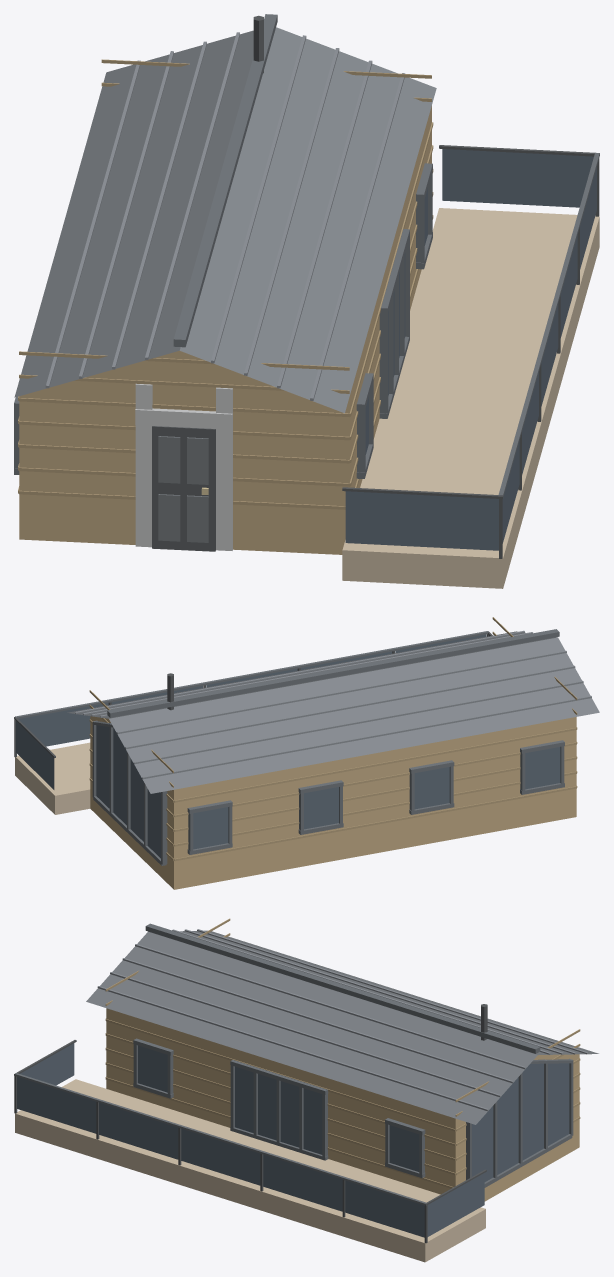
The picture shows the model from 3 angles, top to bottom: view 1: azimuth 30°, elevation 25°; view 2: azimuth 150°, elevation 25°; view 3: azimuth 270°, elevation 25°; orthographic projection. The views are drawn at different scales.
Visible parts, largest first — view 1: slate, larch, door_wood, slate_dk, slate_lt, door_wood_p, window_glass_006, window_glass_007, stone_band, door_dark_p, door_dark, pipe (+5 smaller); view 2: slate, door_wood, slate_dk, slate_lt, door_wood_p, window_glass_014, larch, window_glass_005, window_glass_018, window_glass_017, window_glass_015, window_glass_016 (+2 smaller); view 3: slate, door_wood, larch, slate_dk, slate_lt, window_glass_014, door_wood_p, window_glass_003, window_glass_004, window_glass_005, window_glass_001, window_glass_002 (+9 smaller).
Part boxes in pixels (x1,y1,x2,y2): slate: [14, 27, 436, 413]; larch: [342, 208, 599, 588]; door_wood: [19, 106, 431, 554]; slate_dk: [14, 14, 599, 497]; slate_lt: [45, 32, 405, 400]; door_wood_p: [18, 59, 433, 509]; window_glass_006: [345, 491, 498, 550]; window_glass_007: [442, 149, 593, 207]; stone_band: [135, 383, 232, 550]; door_dark_p: [158, 436, 208, 542]; door_dark: [152, 426, 215, 551]; pipe: [253, 15, 599, 558]; slate: [67, 631, 599, 793]; door_wood: [90, 716, 576, 889]; slate_dk: [15, 629, 564, 865]; slate_lt: [75, 630, 591, 779]; door_wood_p: [89, 617, 577, 861]; window_glass_014: [96, 725, 160, 858]; larch: [15, 742, 90, 814]; window_glass_005: [18, 703, 108, 746]; window_glass_018: [525, 747, 560, 789]; window_glass_017: [414, 767, 449, 809]; window_glass_015: [193, 807, 228, 849]; window_glass_016: [304, 787, 338, 829]; slate: [86, 930, 598, 1124]; door_wood: [106, 1008, 579, 1201]; larch: [15, 1079, 485, 1262]; slate_dk: [15, 923, 573, 1205]; slate_lt: [97, 929, 588, 1111]; window_glass_014: [472, 1063, 569, 1181]; door_wood_p: [105, 918, 580, 1188]; window_glass_003: [181, 1128, 260, 1185]; window_glass_004: [263, 1154, 342, 1211]; window_glass_005: [345, 1180, 424, 1237]; window_glass_001: [17, 1076, 96, 1133]; window_glass_002: [99, 1102, 178, 1159].
Size of the model in its own units: 12.97 by 4.35 by 13.83.
